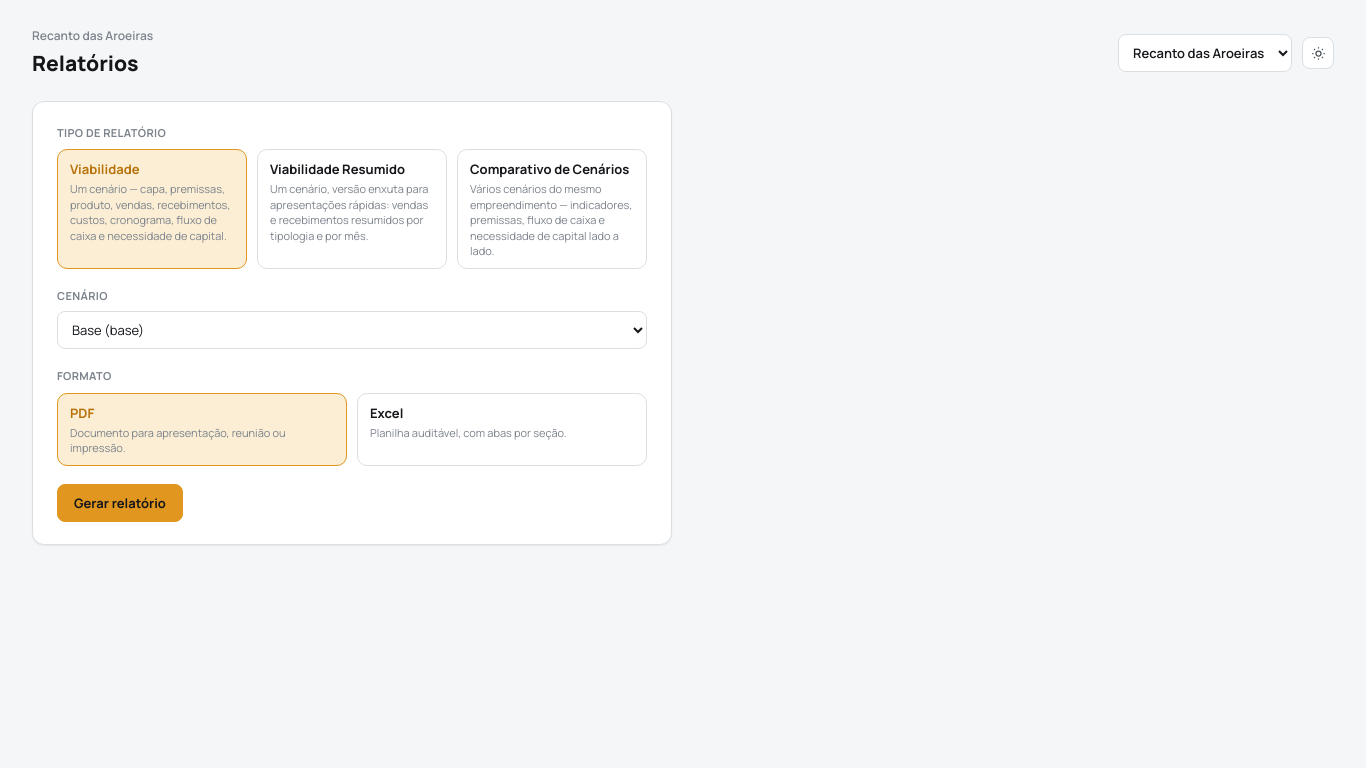
RelatoriosPage › botão 'Gerar relatório' fica desabilitado sem nenhum cenário selecionado no comparativo
Expected: the text "Recanto das Aroeiras" is shown, [32,26,153,45]
Click the button "Comparativo de Cenários" at [552, 209], box [457,149,647,269]
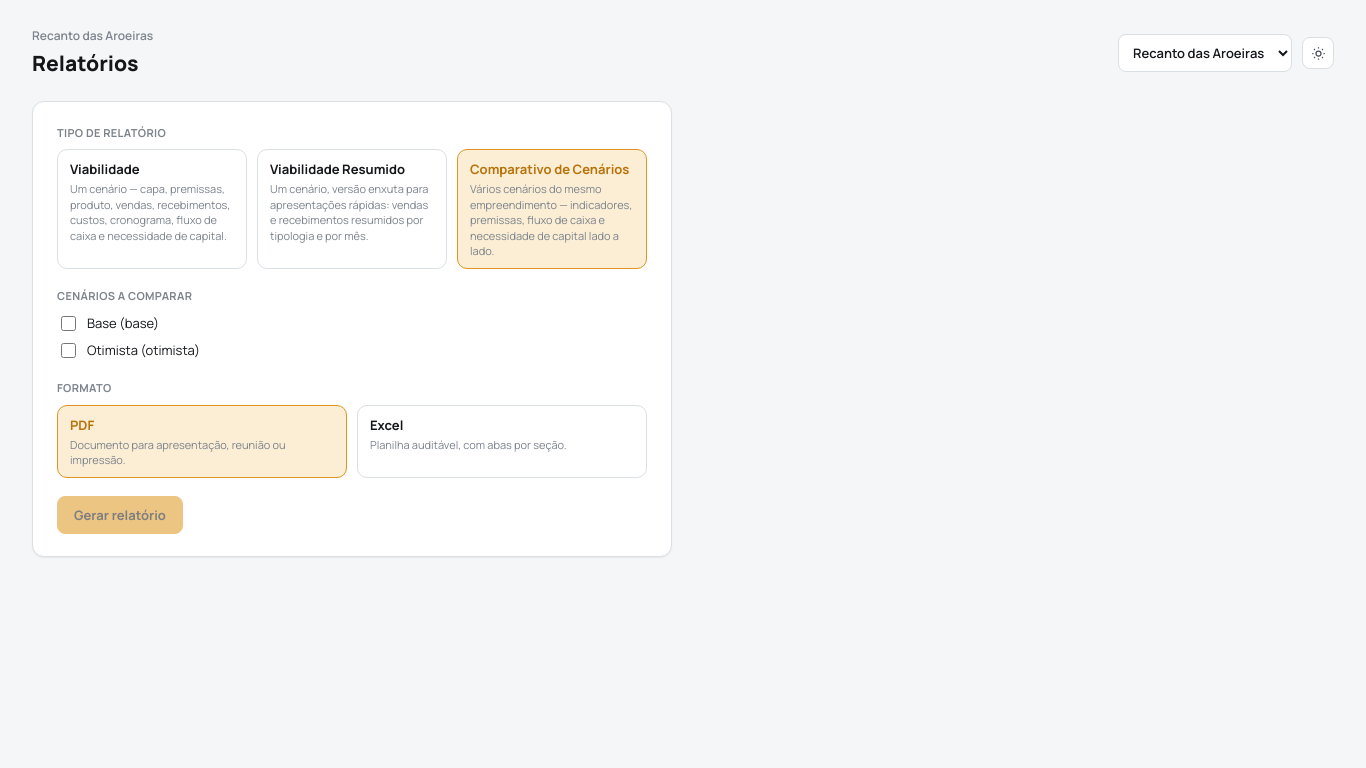
Expected: the button "Gerar relatório" is disabled, [57,496,183,534]
